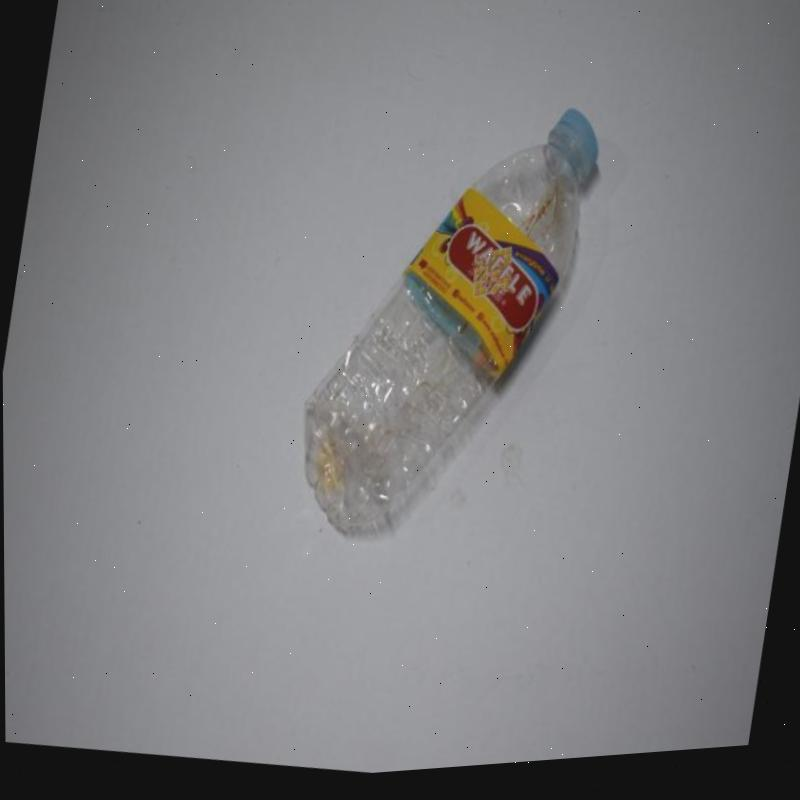botella: (283, 79, 607, 577)
